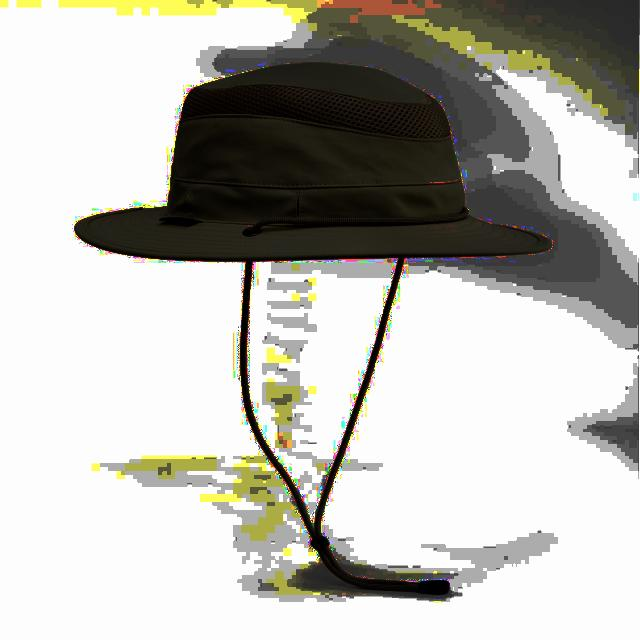TOPI: (70, 59, 559, 268)
